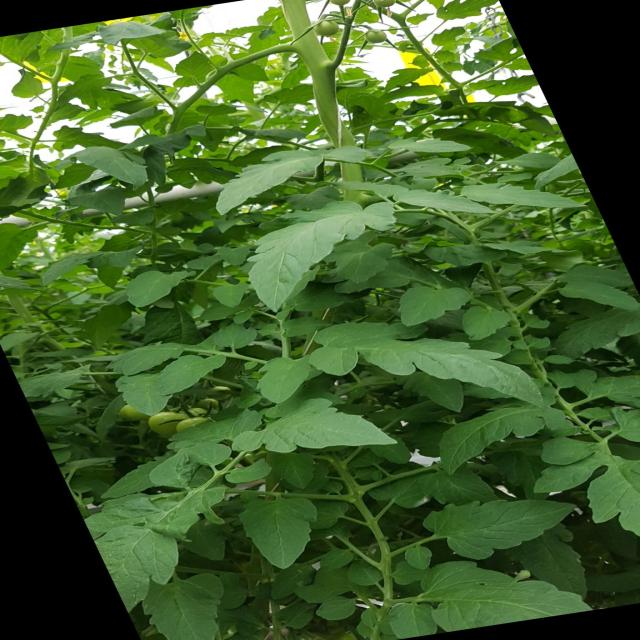Healthy Leaf: (306, 316, 562, 408), (239, 393, 399, 468), (424, 489, 588, 558), (414, 390, 544, 475), (223, 223, 339, 306), (218, 136, 331, 212), (250, 489, 326, 570), (133, 350, 238, 397), (54, 143, 160, 189), (463, 181, 592, 213), (5, 358, 104, 399), (548, 278, 640, 319), (394, 283, 470, 332), (121, 264, 194, 314), (391, 131, 485, 161), (553, 258, 640, 289), (521, 438, 611, 467), (149, 448, 207, 492), (456, 301, 522, 337), (182, 432, 234, 470), (99, 226, 155, 255)
